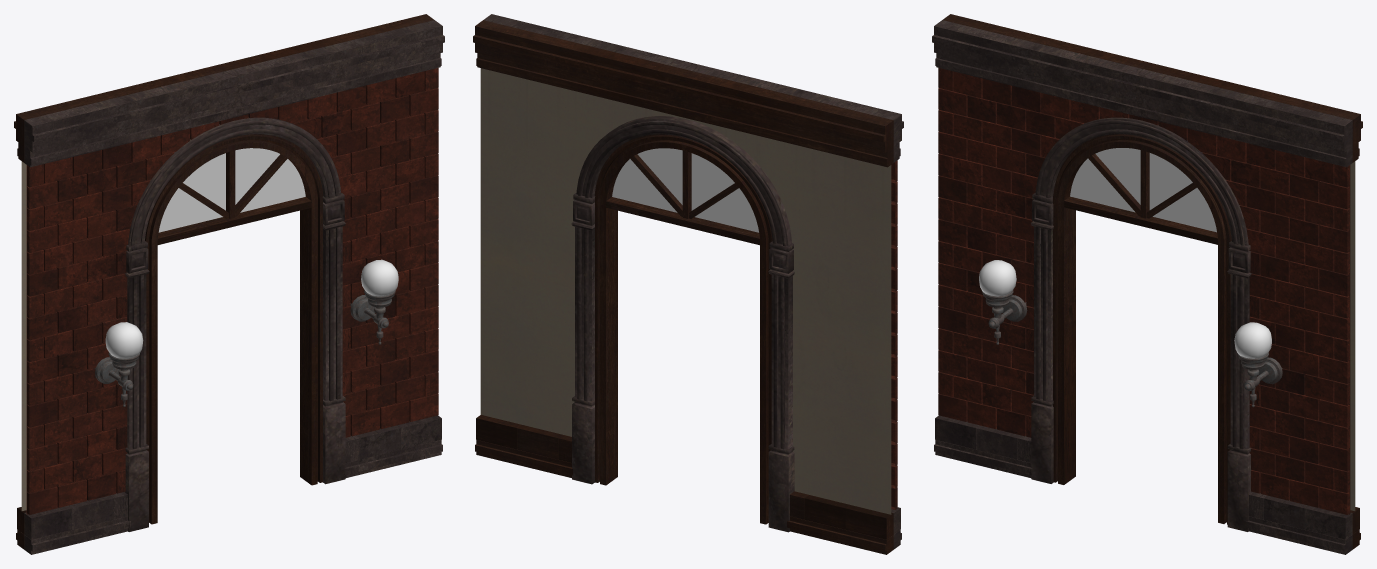
File: SK3 DOOR2.fbx
3 renders of one model, left to right at view 1: azimuth 30°, elevation 25°; view 2: azimuth 150°, elevation 25°; view 3: azimuth 330°, elevation 25°, orthographic.
Visible parts, largest first — view 1: SK3 DOOR2; view 2: SK3 DOOR2; view 3: SK3 DOOR2.
Boxes of the visible parts, left/top/right/bottom form: SK3 DOOR2: left=14, top=14, right=444, bottom=554; SK3 DOOR2: left=473, top=14, right=903, bottom=554; SK3 DOOR2: left=932, top=14, right=1362, bottom=554.
Size of the model in its own units: 400 by 400 by 70.61.
